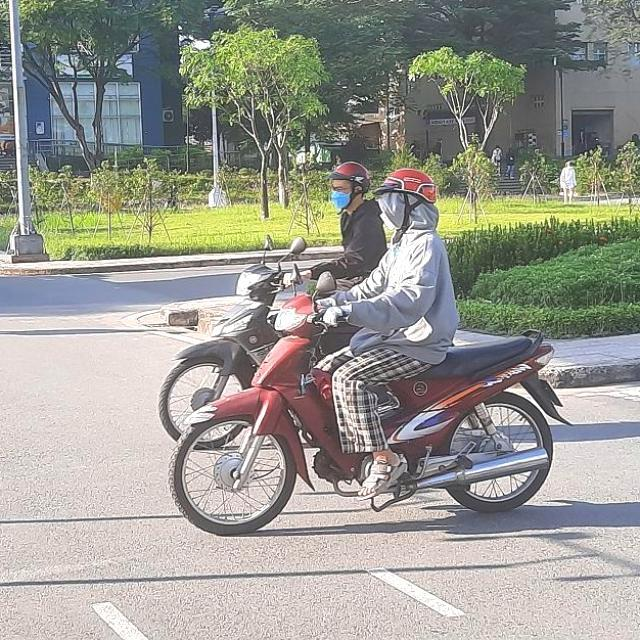Helmet: (376, 167, 442, 232), (328, 159, 372, 213)
